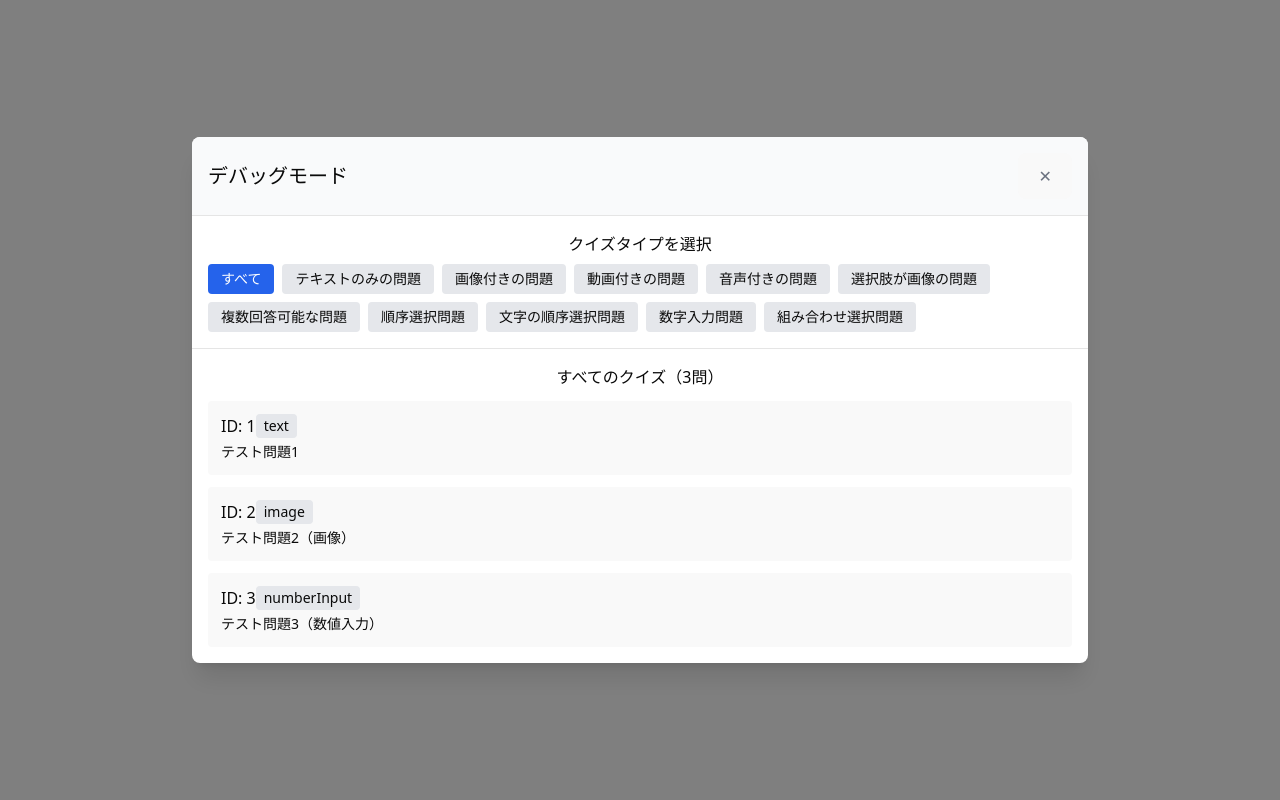
Test case: DebugModal › タイプフィルターボタンをクリックするとそのタイプのクイズだけが表示されること
Expected: the text "ID: 1" is shown, x1=221 y1=414 x2=256 y2=438
Expected: the text "ID: 2" is shown, x1=221 y1=500 x2=256 y2=524
// 「画像付きの問題」フィルターをクリック
Step 1. Click the button "画像付きの問題" → (504, 279), box x1=442 y1=264 x2=566 y2=294
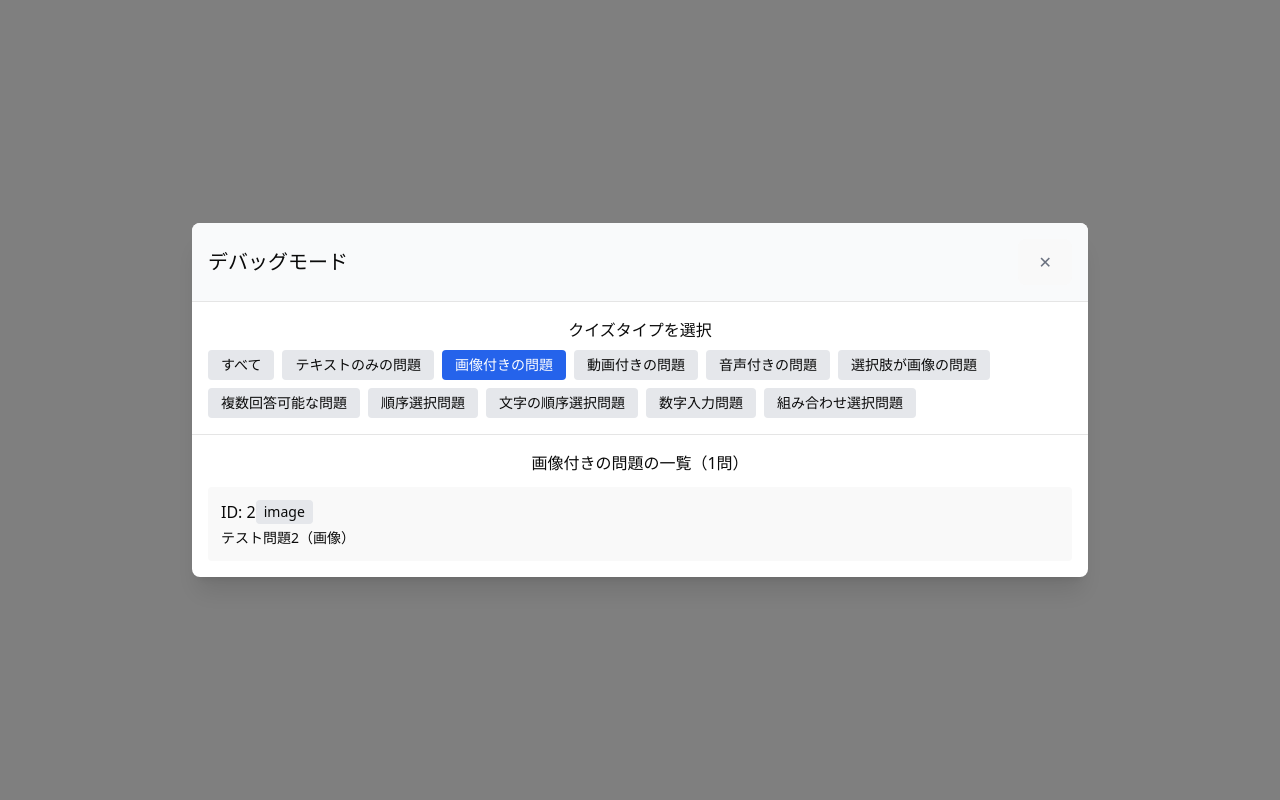
Expected: the text "ID: 2" is shown, x1=221 y1=500 x2=256 y2=524
Result: the button "ID: 1" is gone
Result: the button "ID: 3" is gone
